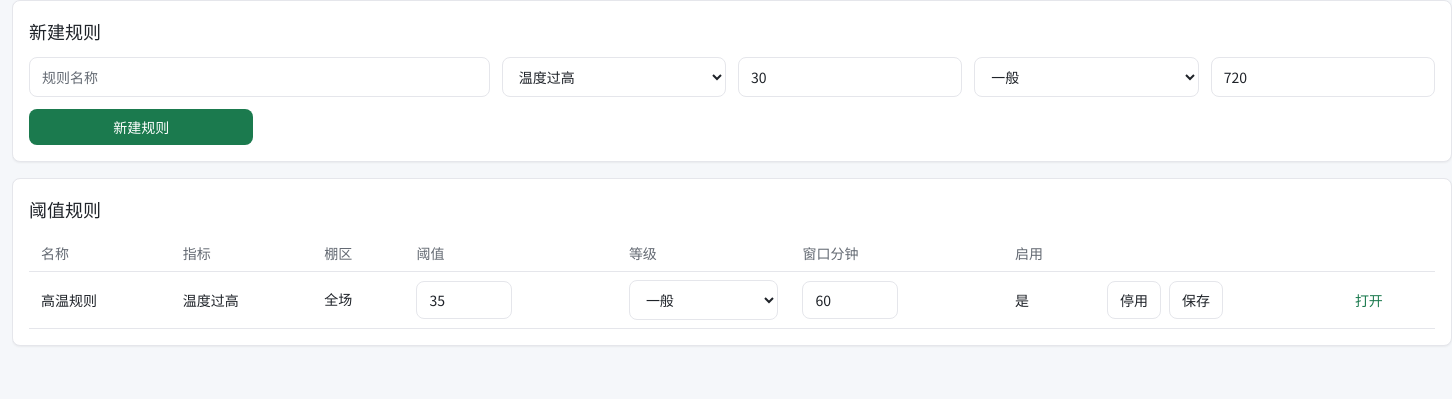
Test: RulesView › saves an edited threshold and shows the updated list
Replace the text in the number field named "高温规则 阈值" with "41" at (464, 300), box [416,281,512,319]
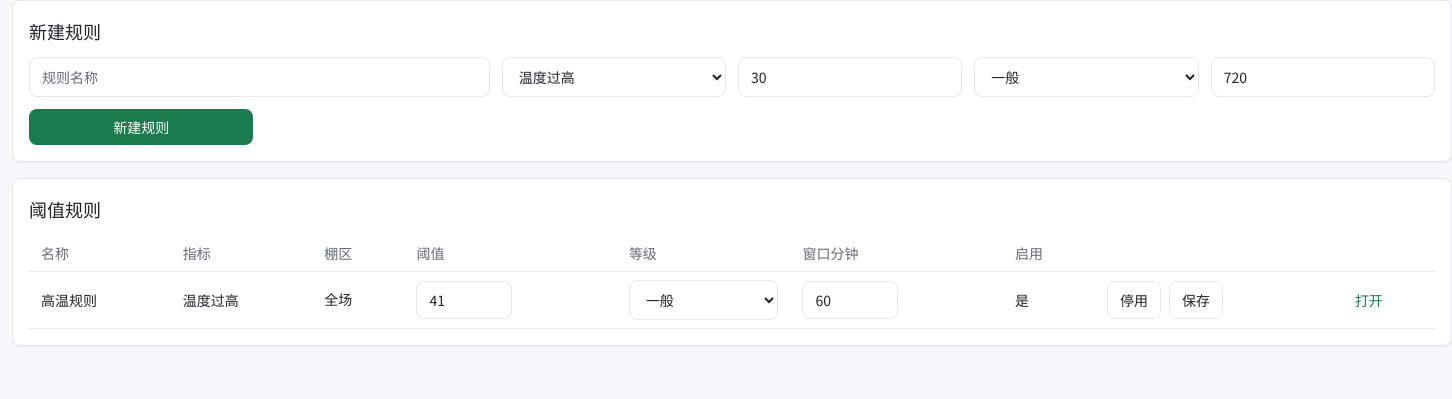
Click the button "保存" at (1196, 300), box [1169,281,1223,319]
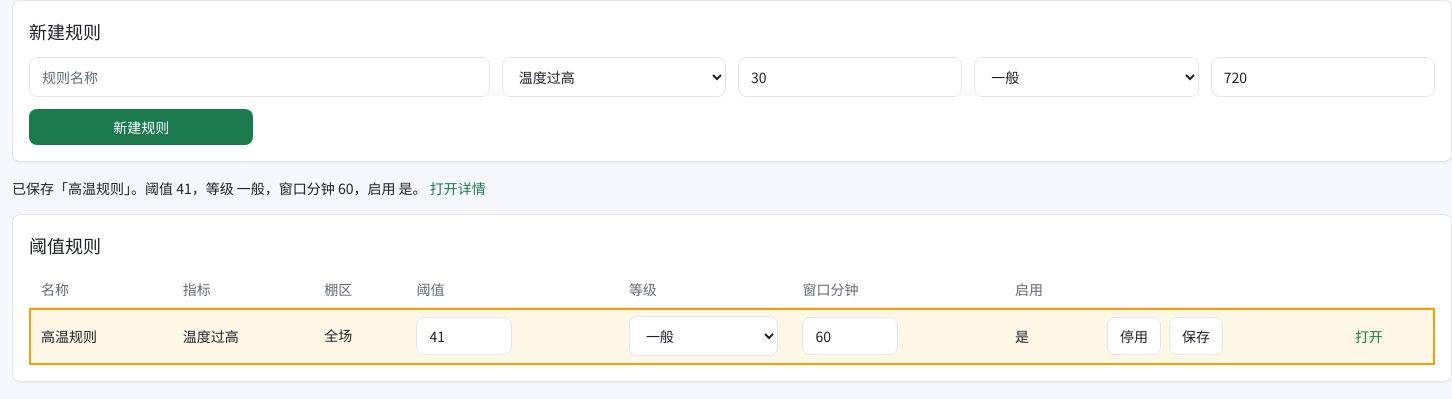
Expected: the element with test id "rule-notice" shows "已保存「高温规则」", [12,178,430,198]
Expected: the element with test id "rule-notice" shows "阈值 41", [12,178,430,198]
Expected: the element with test id "rule-notice" shows "等级 一般", [12,178,430,198]
